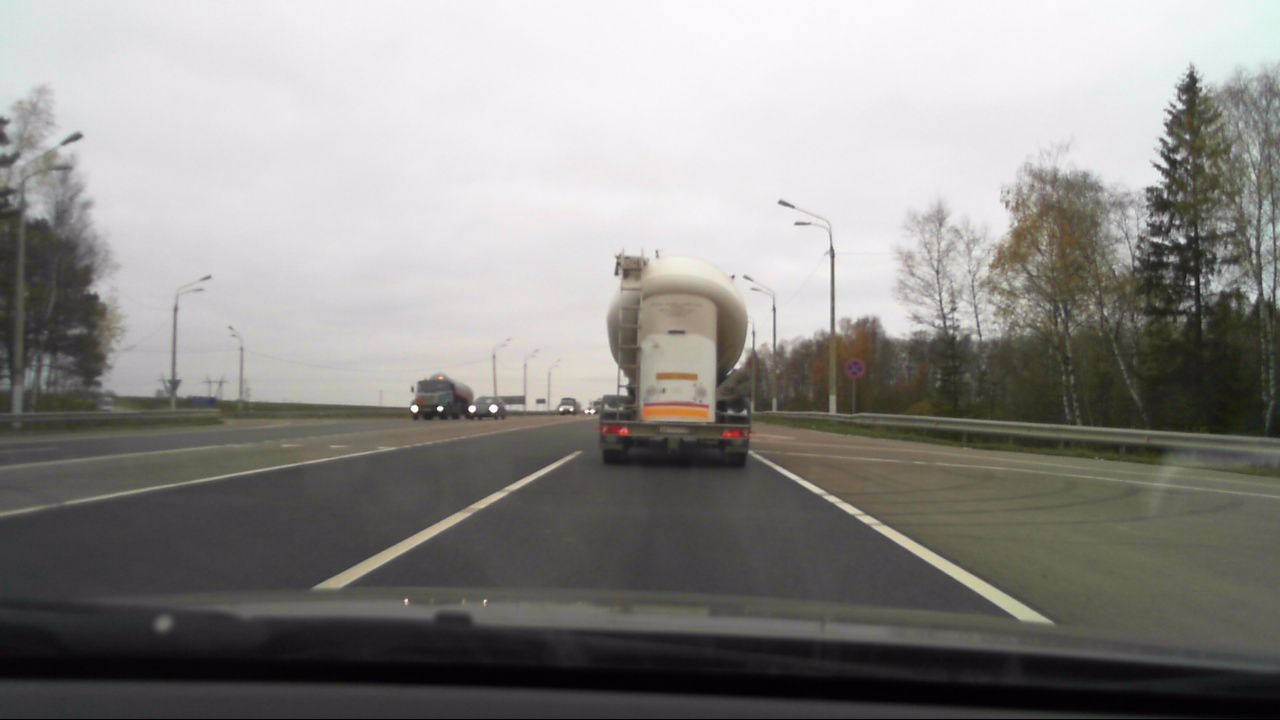No Parking: (840, 357, 862, 383)
